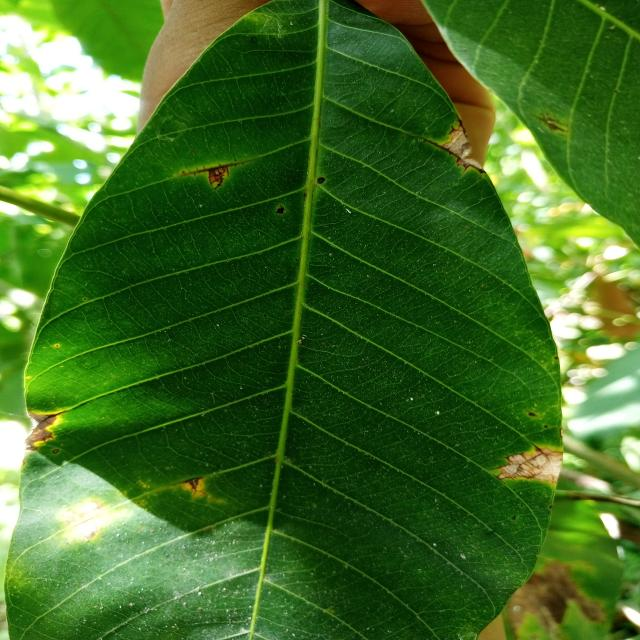Colletotrichum: (317, 177, 325, 184), (52, 449, 59, 454)
Corynespora: (491, 443, 543, 480), (180, 162, 247, 190), (420, 136, 460, 162), (175, 477, 209, 498), (41, 411, 65, 422)
Leaf-Blight: (498, 448, 563, 481), (443, 126, 481, 168), (24, 412, 55, 449)
